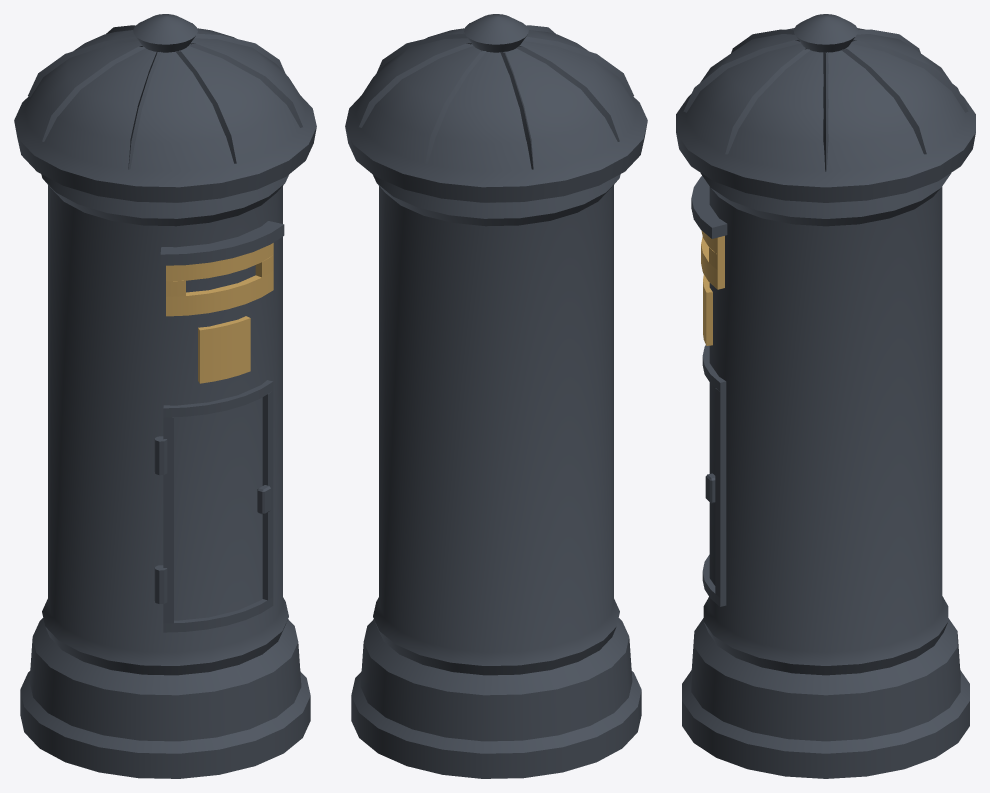
Rendered from PillarBox.fbx.
3 renders of one model, left to right at view 1: azimuth 30°, elevation 25°; view 2: azimuth 150°, elevation 25°; view 3: azimuth 270°, elevation 25°, orthographic.
Visible parts, largest first — view 1: PillarBox_Iron, PillarBox_Brass; view 2: PillarBox_Iron; view 3: PillarBox_Iron, PillarBox_Brass.
Part boxes in pixels (left/top/right/bottom): PillarBox_Iron: left=14, top=14, right=316, bottom=778; PillarBox_Brass: left=166, top=243, right=273, bottom=383; PillarBox_Iron: left=345, top=14, right=647, bottom=778; PillarBox_Iron: left=676, top=14, right=975, bottom=778; PillarBox_Brass: left=701, top=230, right=724, bottom=345.
Bounding box in the file's own units: 1.96 × 5 × 1.94.
